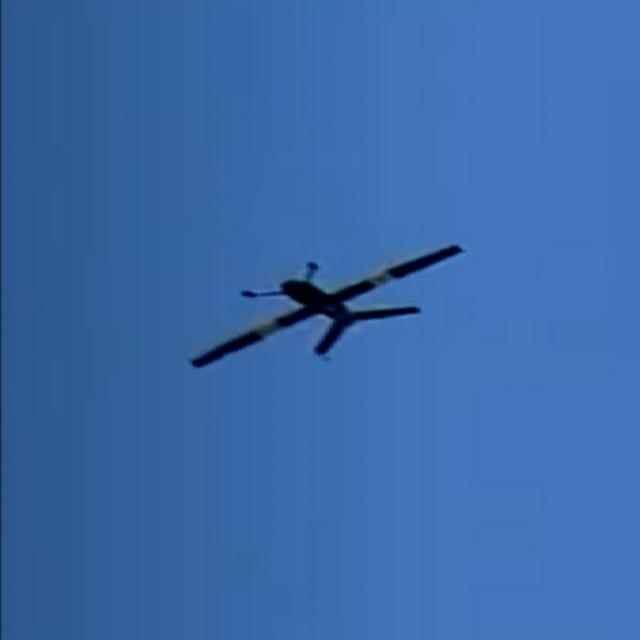plane: (189, 242, 468, 368)
